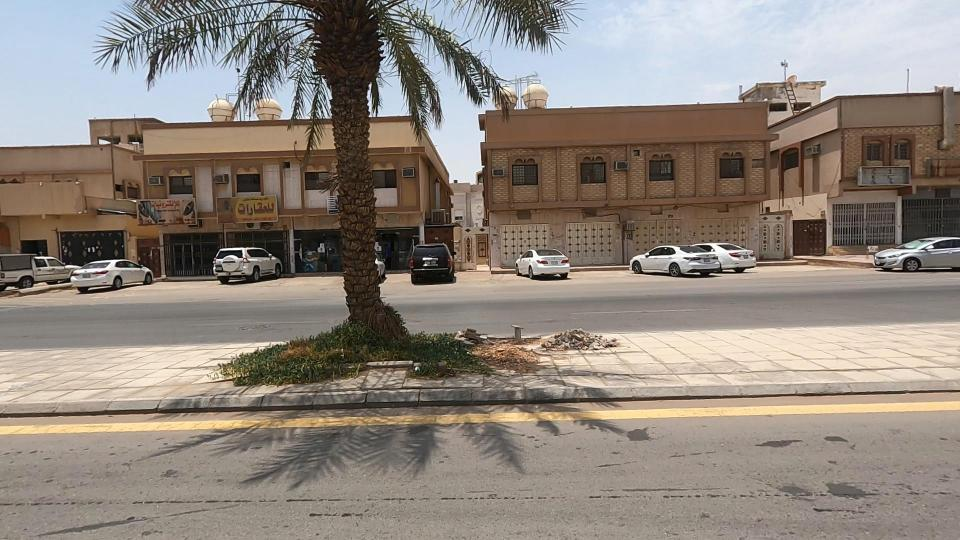BAD_BILLBOARD: (803, 147, 960, 212)
